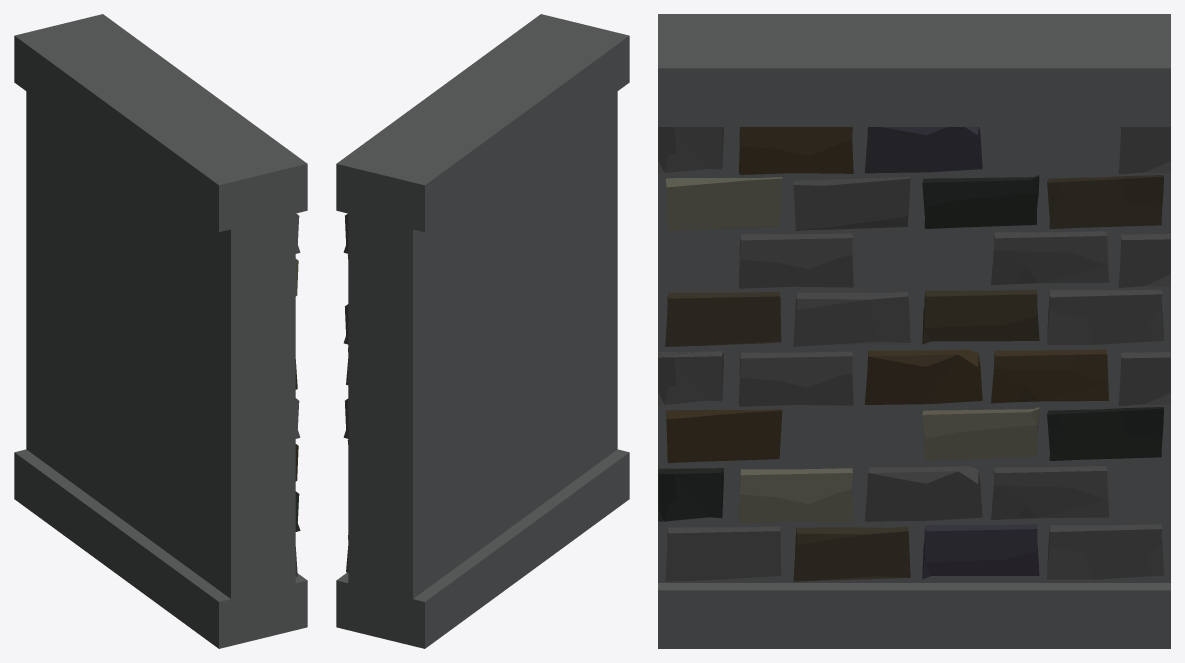
File: Wall3.fbx
3 renders of one model, left to right at view 1: azimuth 30°, elevation 25°; view 2: azimuth 150°, elevation 25°; view 3: azimuth 270°, elevation 25°, orthographic. The views are drawn at different scales.
Visible parts, largest first — view 1: Wall4; view 2: Wall4; view 3: Wall4.
Boxes of the visible parts, x1,y1,x2,y2 form: Wall4: (14,14,307,648); Wall4: (336,14,629,648); Wall4: (658,14,1170,648).
Bounding box in the file's own units: 100 × 500 × 400.
